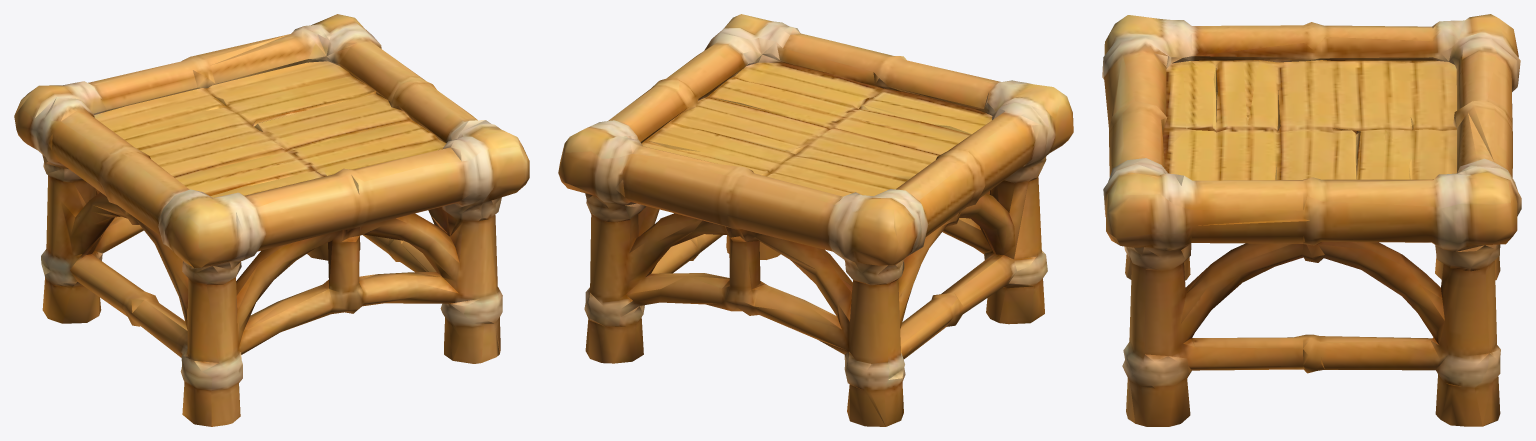
File: table09.glb
The picture shows the model from 3 angles, left to right: view 1: azimuth 30°, elevation 25°; view 2: azimuth 150°, elevation 25°; view 3: azimuth 270°, elevation 25°; orthographic projection. The views are drawn at different scales.
Bounding box in the file's own units: 0.1974 × 0.1214 × 0.1871.
1 material, 1 textured.
